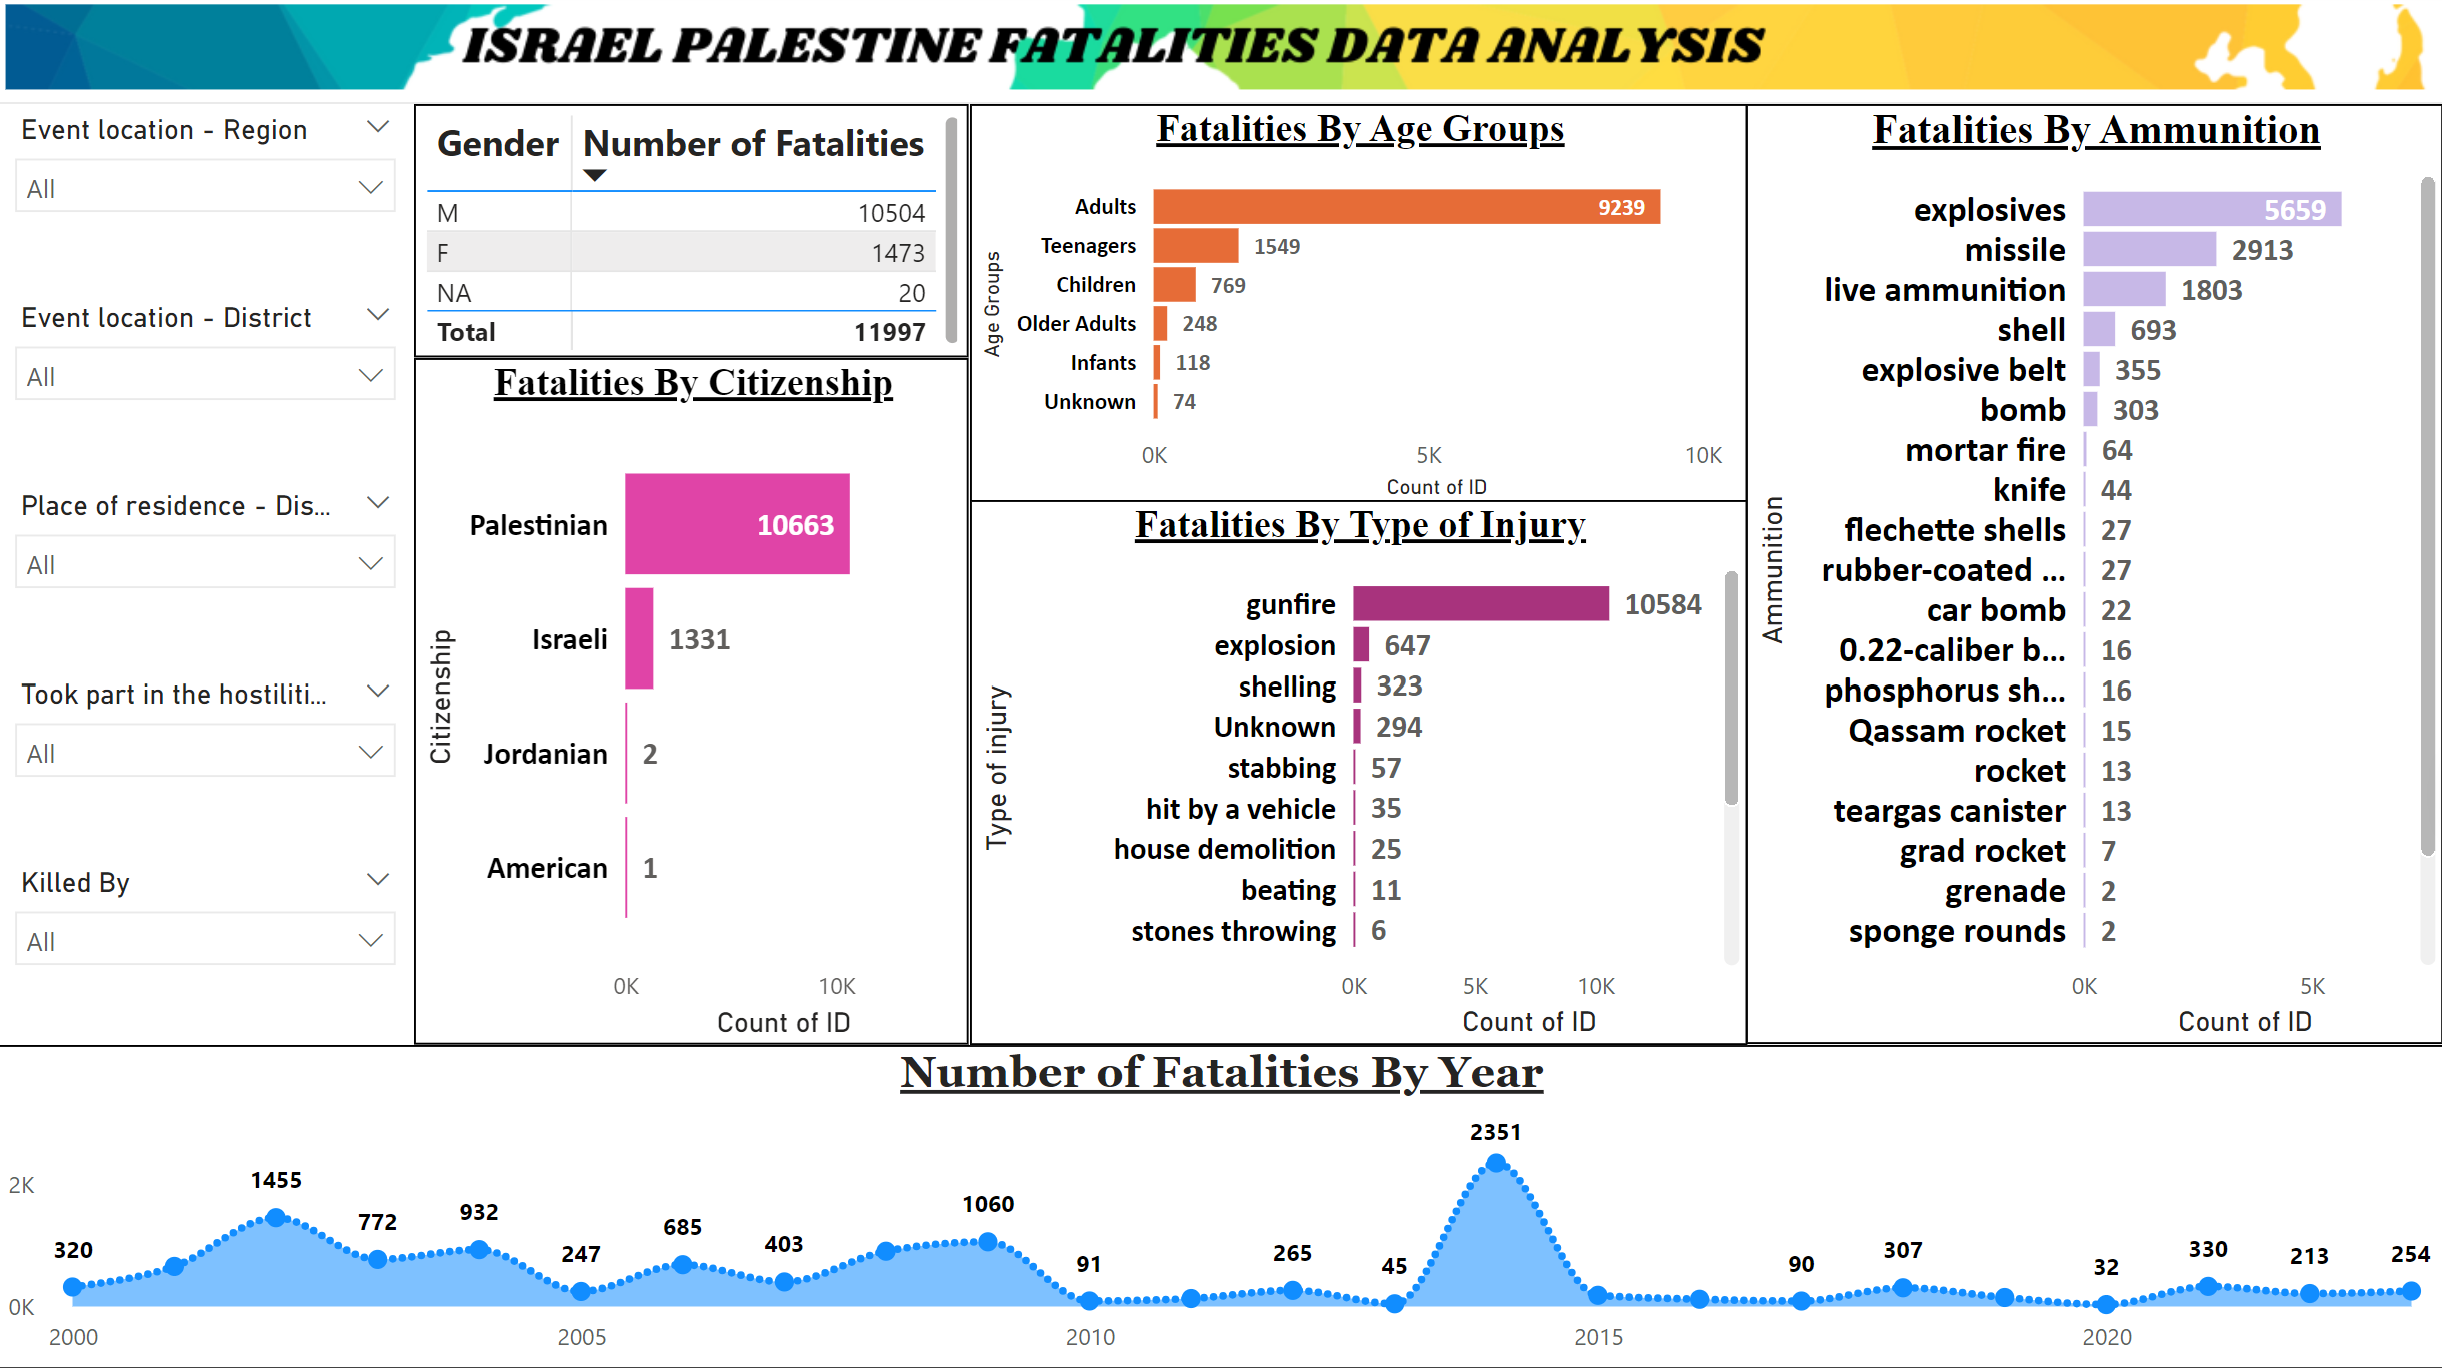

The page's visual inventory and layout, read from the dashboard file:
{"tool":"powerbi","page":{"name":"Page 1","canvas":[1280,720],"ordinal":0},"visuals":[{"type":"image","box":[0,0,1279.9,59.9],"z":0},{"type":"areaChart","title":"Number of Fatalities By Year","fields":{"Category":["Dataset.Date of death.Variation.Date Hierarchy.Year","Dataset.Date of death.Variation.Date Hierarchy.Quarter","Dataset.Date of death.Variation.Date Hierarchy.Month","Dataset.Date of death.Variation.Date Hierarchy.Day"],"Y":["CountNonNull(Dataset.ID)"]},"box":[0,550.7,1280,169.7],"z":1000},{"type":"slicer","fields":{"Values":["Dataset.Event location - Region"]},"box":[0,59.5,218.8,98.2],"z":2000},{"type":"slicer","fields":{"Values":["Dataset.Event location - District"]},"box":[0,157.8,218.8,98.2],"z":3000},{"type":"slicer","fields":{"Values":["Dataset.Place of residence - District"]},"box":[0,256,218.8,98.2],"z":4000},{"type":"slicer","fields":{"Values":["Dataset.Took part in the hostilities"]},"box":[0,354.2,218.8,98.2],"z":5000},{"type":"slicer","fields":{"Values":["Dataset. Killed By"]},"box":[0,452.5,218.8,98.2],"z":6000},{"type":"tableEx","fields":{"Values":["Dataset.Gender","Dataset.ID"]},"box":[218.8,59.5,290.2,132.5],"z":7000},{"type":"barChart","title":"Fatalities By Citizenship","fields":{"Y":["CountNonNull(Dataset.ID)"],"Category":["Dataset.Citizenship"]},"box":[218.8,192,290.2,358.7],"z":8000},{"type":"barChart","title":"Fatalities By Age Groups","fields":{"Y":["CountNonNull(Dataset.ID)"],"Category":["Dataset.Age Groups"]},"box":[509,59.5,406.3,209.9],"z":9000},{"type":"barChart","title":"Fatalities By Type of Injury","fields":{"Y":["CountNonNull(Dataset.ID)"],"Category":["Dataset.Type of injury"]},"box":[509,266.4,406.3,284.3],"z":10000},{"type":"barChart","title":"Fatalities By Ammunition","fields":{"Y":["CountNonNull(Dataset.ID)"],"Category":["Dataset.Ammunition"]},"box":[915.3,59.5,364.7,491.2],"z":11000}]}

Visuals, with their boxes in screenshot pixels (x1, y1, x2, y2), scaled from the page's 1280x720 canvas onto the 2442x1368 screenshot:
image: (0,0,2441,114)
"Number of Fatalities By Year" areaChart: (0,1046,2441,1367)
slicer - Dataset.Event location - Region: (0,113,417,300)
slicer - Dataset.Event location - District: (0,300,417,486)
slicer - Dataset.Place of residence - District: (0,486,417,673)
slicer - Dataset.Took part in the hostilities: (0,673,417,860)
slicer - Dataset. Killed By: (0,860,417,1046)
tableEx - Dataset.Gender x Dataset.ID: (417,113,971,365)
"Fatalities By Citizenship" barChart: (417,365,971,1046)
"Fatalities By Age Groups" barChart: (971,113,1746,512)
"Fatalities By Type of Injury" barChart: (971,506,1746,1046)
"Fatalities By Ammunition" barChart: (1746,113,2441,1046)
